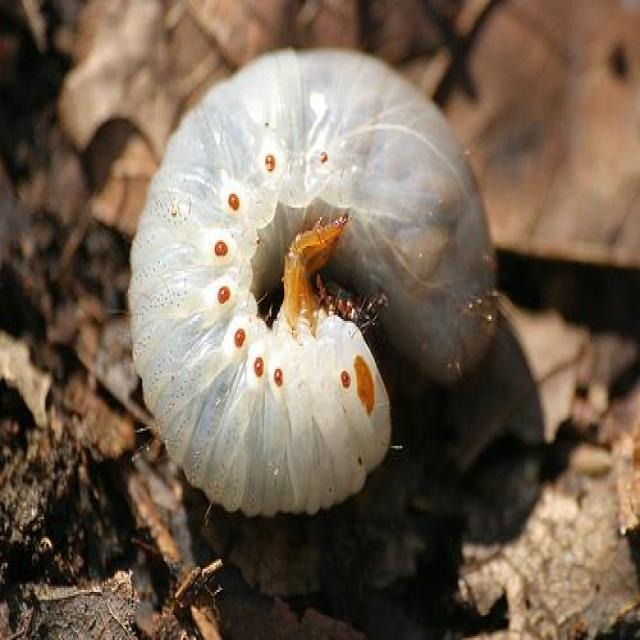Grub-Adult-: (102, 27, 514, 522)
